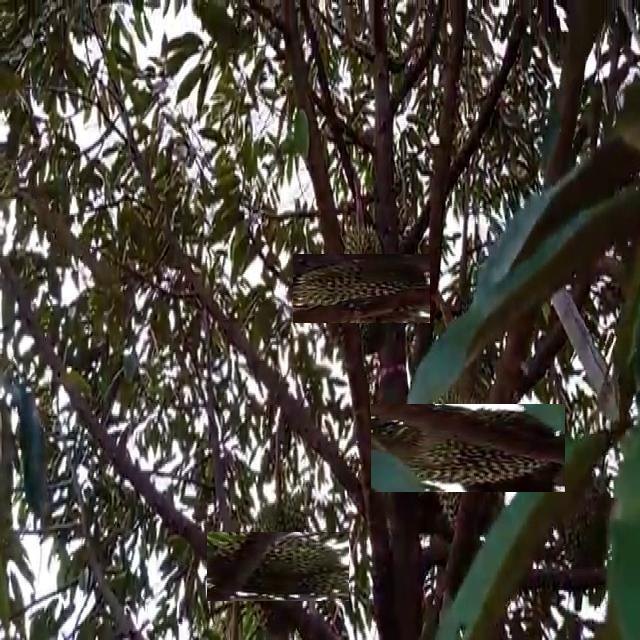durian: (397, 378, 539, 519), (225, 513, 331, 619), (310, 237, 413, 341)
